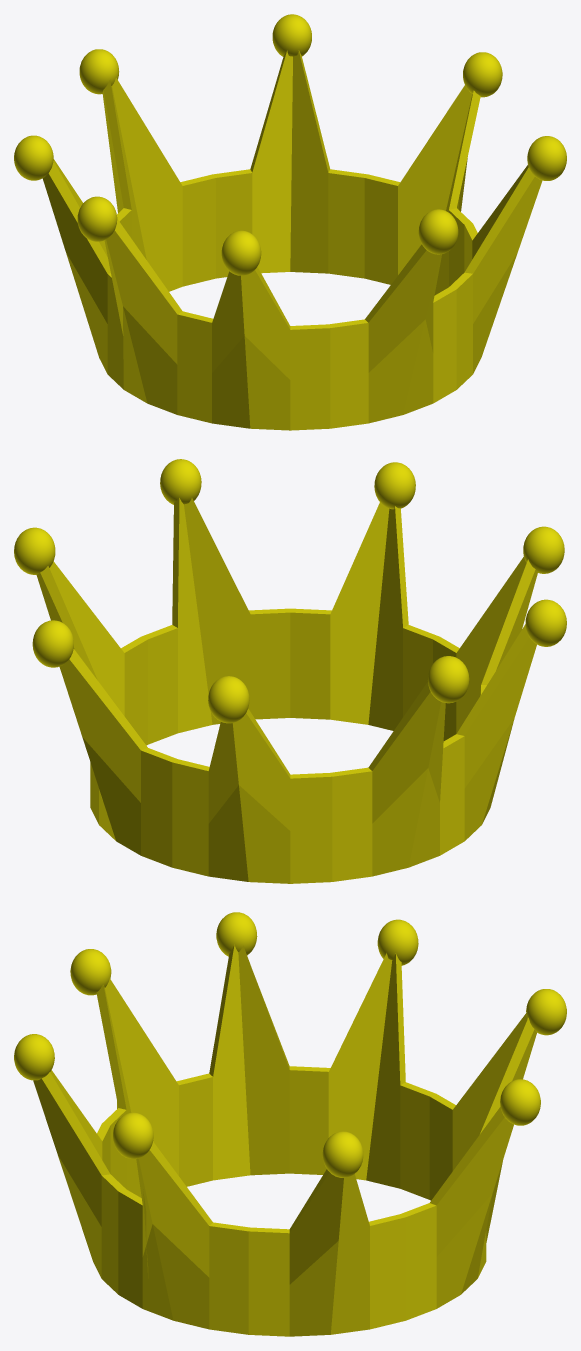
Rendered from 0bcc7245-7e31-4d9a-8b6d-352d55179123.glb.
3 views of the same model, one above another, from view 1: azimuth 30°, elevation 25°; view 2: azimuth 150°, elevation 25°; view 3: azimuth 270°, elevation 25° (orthographic). The views are drawn at different scales.
Parts seen in each view (by area): view 1: Cylinder001, Sphere002, Sphere003, Sphere004, Sphere008, Sphere001, Sphere007, Sphere006, Sphere005; view 2: Cylinder001, Sphere006, Sphere003, Sphere005, Sphere004, Sphere001, Sphere007, Sphere002, Sphere008; view 3: Cylinder001, Sphere006, Sphere007, Sphere008, Sphere001, Sphere005, Sphere002, Sphere004, Sphere003.
Part boxes in pixels (<box>): Cylinder001: <box>42,50,542,430</box>; Sphere002: <box>221,230,261,275</box>; Sphere003: <box>77,196,117,241</box>; Sphere004: <box>14,135,53,180</box>; Sphere008: <box>527,136,566,180</box>; Sphere001: <box>418,209,458,254</box>; Sphere007: <box>463,52,502,97</box>; Sphere006: <box>272,14,311,56</box>; Sphere005: <box>79,49,119,94</box>; Cylinder001: <box>36,497,537,883</box>; Sphere006: <box>32,620,73,667</box>; Sphere003: <box>525,599,566,646</box>; Sphere005: <box>208,676,249,723</box>; Sphere004: <box>428,656,469,703</box>; Sphere001: <box>374,462,415,509</box>; Sphere007: <box>14,527,55,574</box>; Sphere002: <box>523,526,564,573</box>; Sphere008: <box>160,459,201,504</box>; Cylinder001: <box>33,944,536,1336</box>; Sphere006: <box>500,1079,540,1125</box>; Sphere007: <box>322,1131,363,1177</box>; Sphere008: <box>113,1112,153,1158</box>; Sphere001: <box>14,1034,54,1080</box>; Sphere005: <box>526,989,566,1035</box>; Sphere002: <box>70,949,111,995</box>; Sphere004: <box>377,919,418,965</box>; Sphere003: <box>216,912,257,956</box>.
Size of the model in its own units: 534378 by 241839 by 527860.
